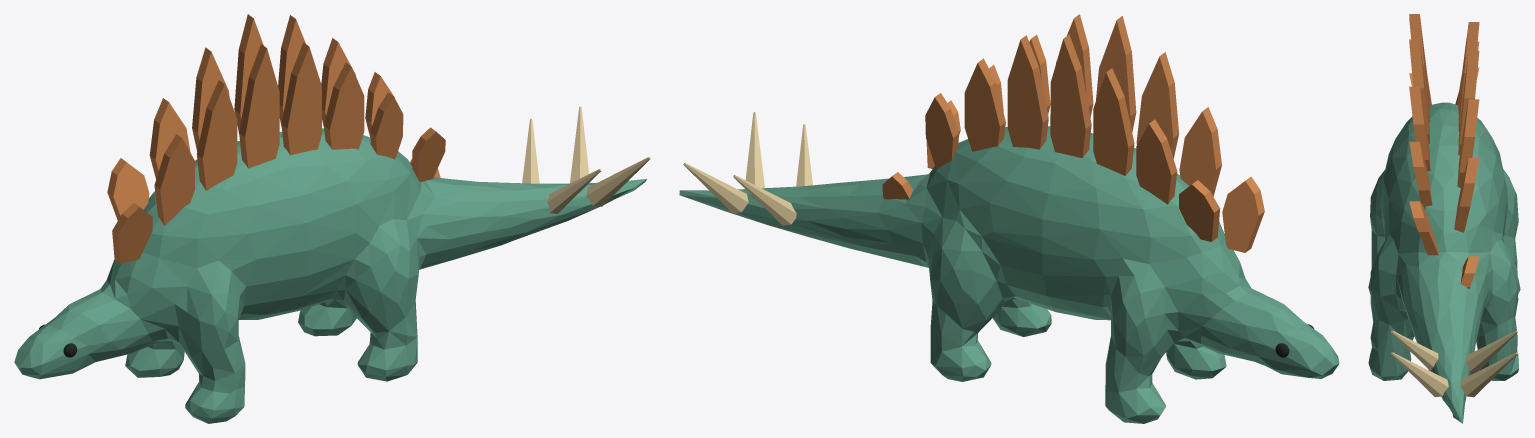
File: NEW_RECOVERY_100_LOD2.fbx
The picture shows the model from 3 angles, left to right: view 1: azimuth 30°, elevation 25°; view 2: azimuth 150°, elevation 25°; view 3: azimuth 270°, elevation 25°; orthographic projection. The views are drawn at different scales.
Parts seen in each view (by area): view 1: Stegosaurus continuous skin and armor; view 2: Stegosaurus continuous skin and armor; view 3: Stegosaurus continuous skin and armor.
Boxes of the visible parts, left/top/right/bottom form: Stegosaurus continuous skin and armor: left=14, top=14, right=650, bottom=423; Stegosaurus continuous skin and armor: left=679, top=14, right=1339, bottom=423; Stegosaurus continuous skin and armor: left=1368, top=14, right=1520, bottom=423.
Bounding box in the file's own units: 650 × 148 × 340.
